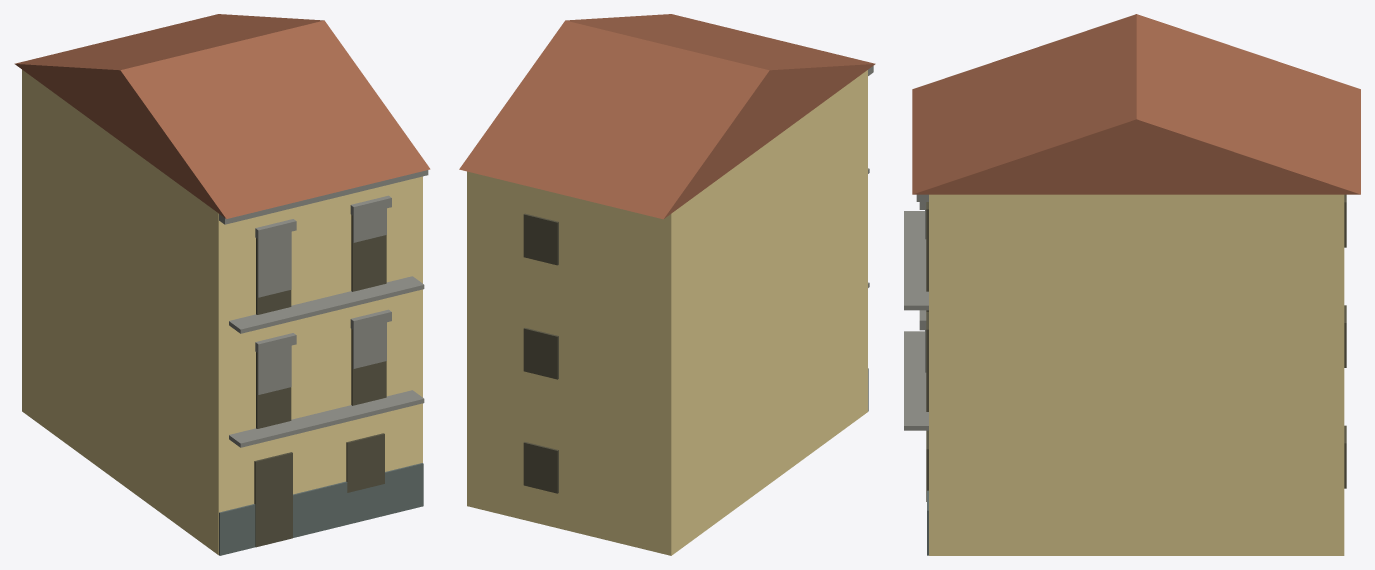
The model's file is SM_TresAlturas_v1_Ocre_LOD1.fbx.
3 renders of one model, left to right at view 1: azimuth 30°, elevation 25°; view 2: azimuth 150°, elevation 25°; view 3: azimuth 270°, elevation 25°, orthographic. The views are drawn at different scales.
Visible parts, largest first — view 1: SM_pueblo_valenciano_v11_LOD1; view 2: SM_pueblo_valenciano_v11_LOD1; view 3: SM_pueblo_valenciano_v11_LOD1.
Boxes of the visible parts, x1,y1,x2,y2 form: SM_pueblo_valenciano_v11_LOD1: (14,14,430,555); SM_pueblo_valenciano_v11_LOD1: (459,14,875,555); SM_pueblo_valenciano_v11_LOD1: (904,14,1360,555).
Size of the model in its own units: 6 by 11.6 by 11.
